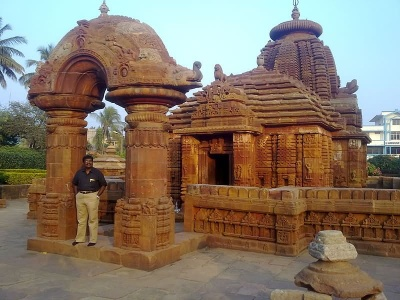amalaka: (261, 7, 337, 47)
gopuram: (176, 116, 274, 195), (253, 31, 347, 102)
torana: (13, 6, 189, 208)
